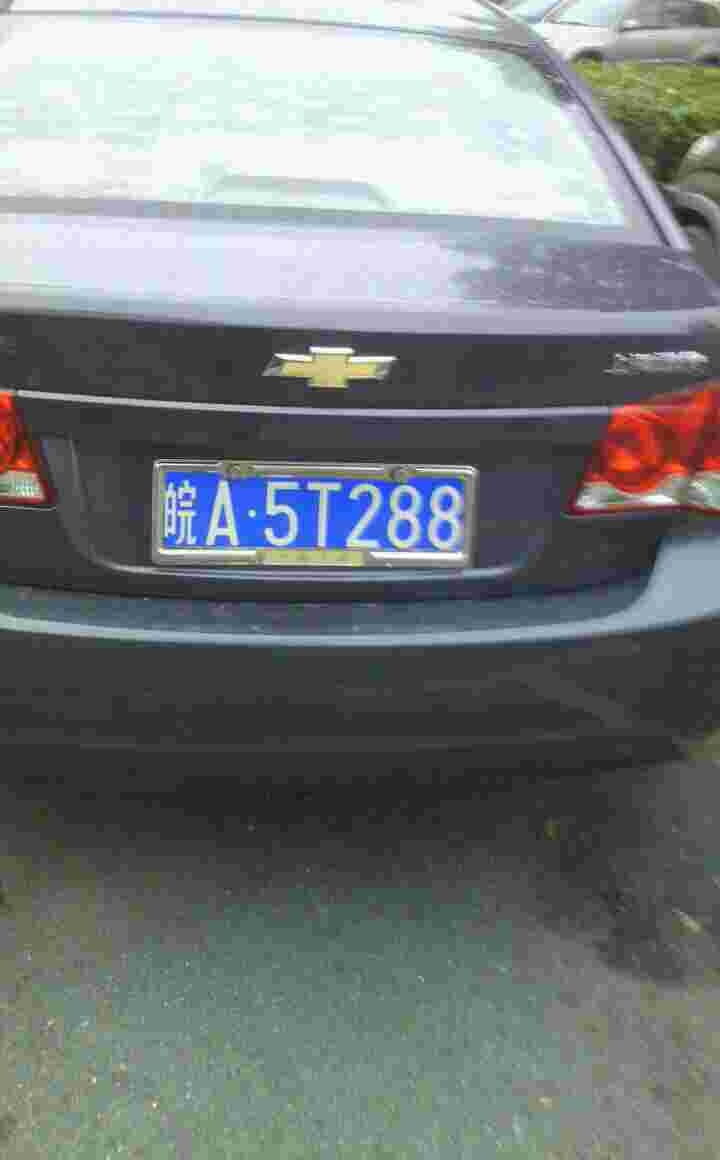license_plate: (163, 477, 469, 546)
